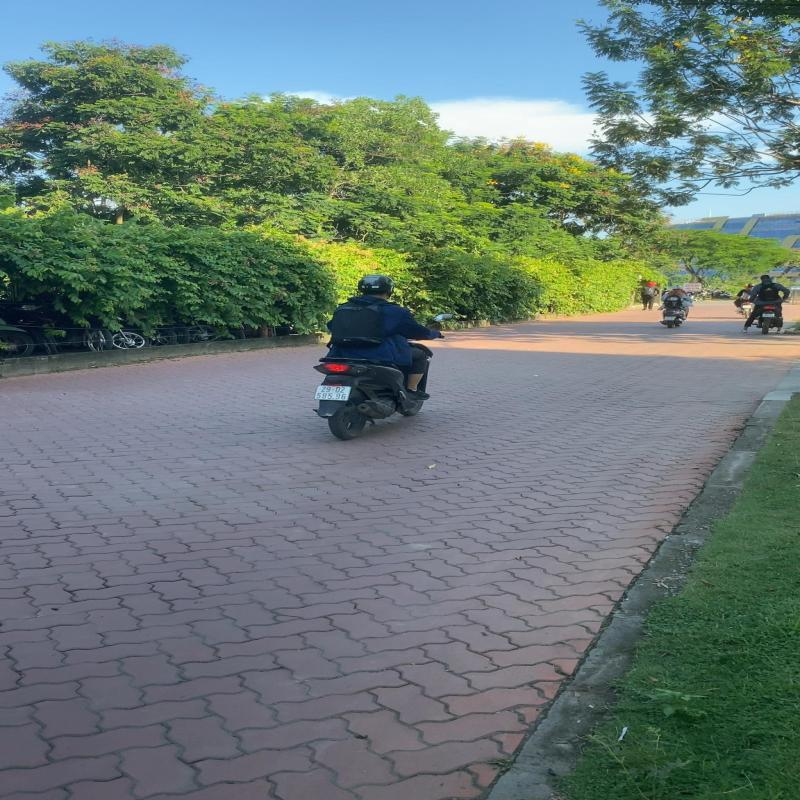helmet: (316, 274, 442, 439), (356, 276, 397, 294)
licenseplate: (313, 384, 352, 402)
